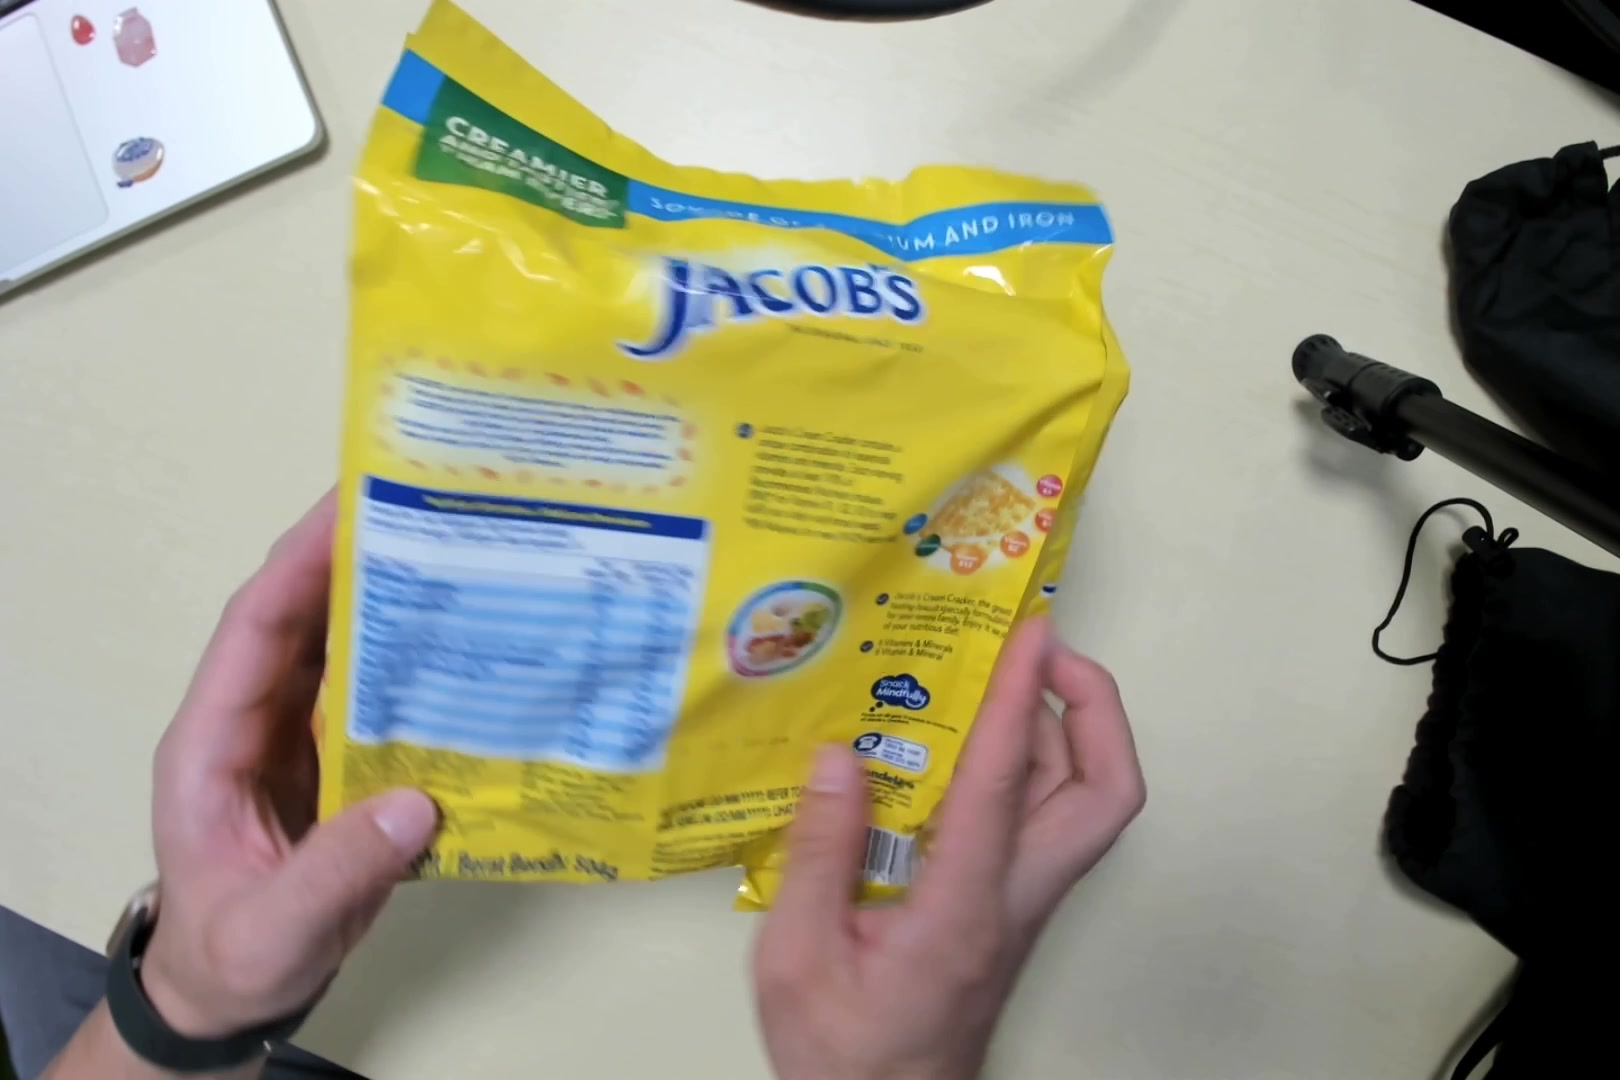BiscuitCrackersCookies_500-599g_Halal_NonHealthy: (329, 40, 1091, 918)
